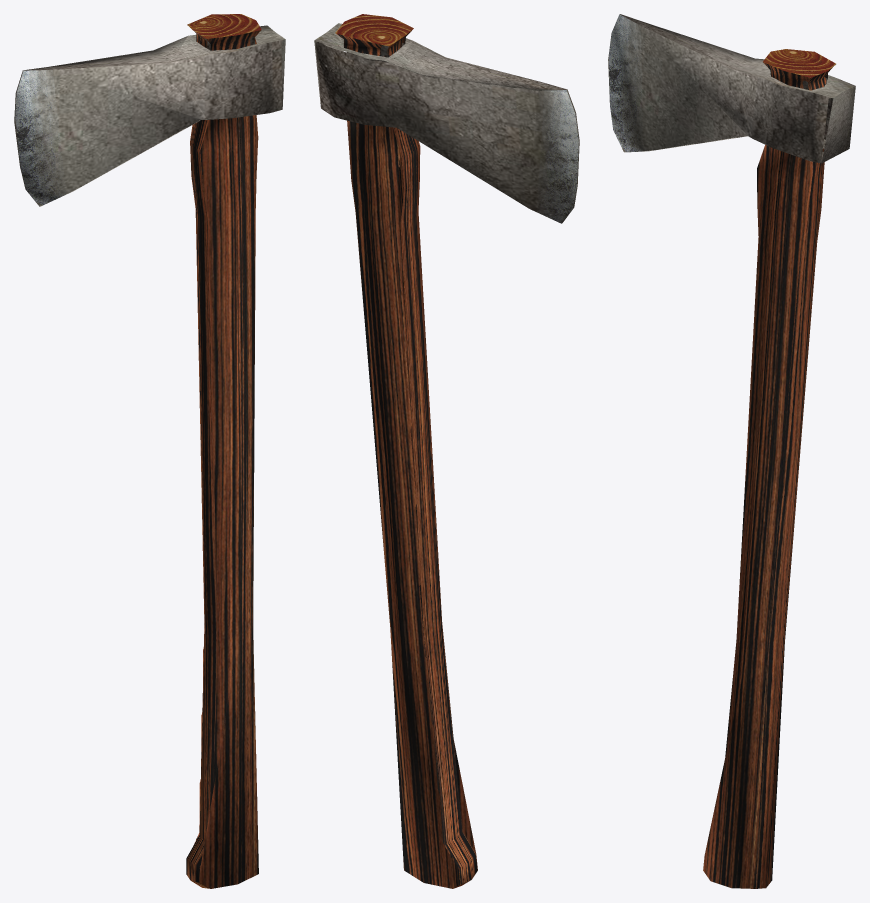
Rendered from Axe.obj.
The picture shows the model from 3 angles, left to right: view 1: azimuth 30°, elevation 25°; view 2: azimuth 150°, elevation 25°; view 3: azimuth 330°, elevation 25°; orthographic projection. The views are drawn at different scales.
Parts seen in each view (by area): view 1: skin; view 2: skin; view 3: skin.
Boxes of the visible parts, <box> form: skin: <box>14,14,285,888</box>; skin: <box>314,14,579,888</box>; skin: <box>608,14,855,888</box>.
Bounding box in the file's own units: 1.81 × 5.68 × 0.6895.
1 material, 1 textured.
